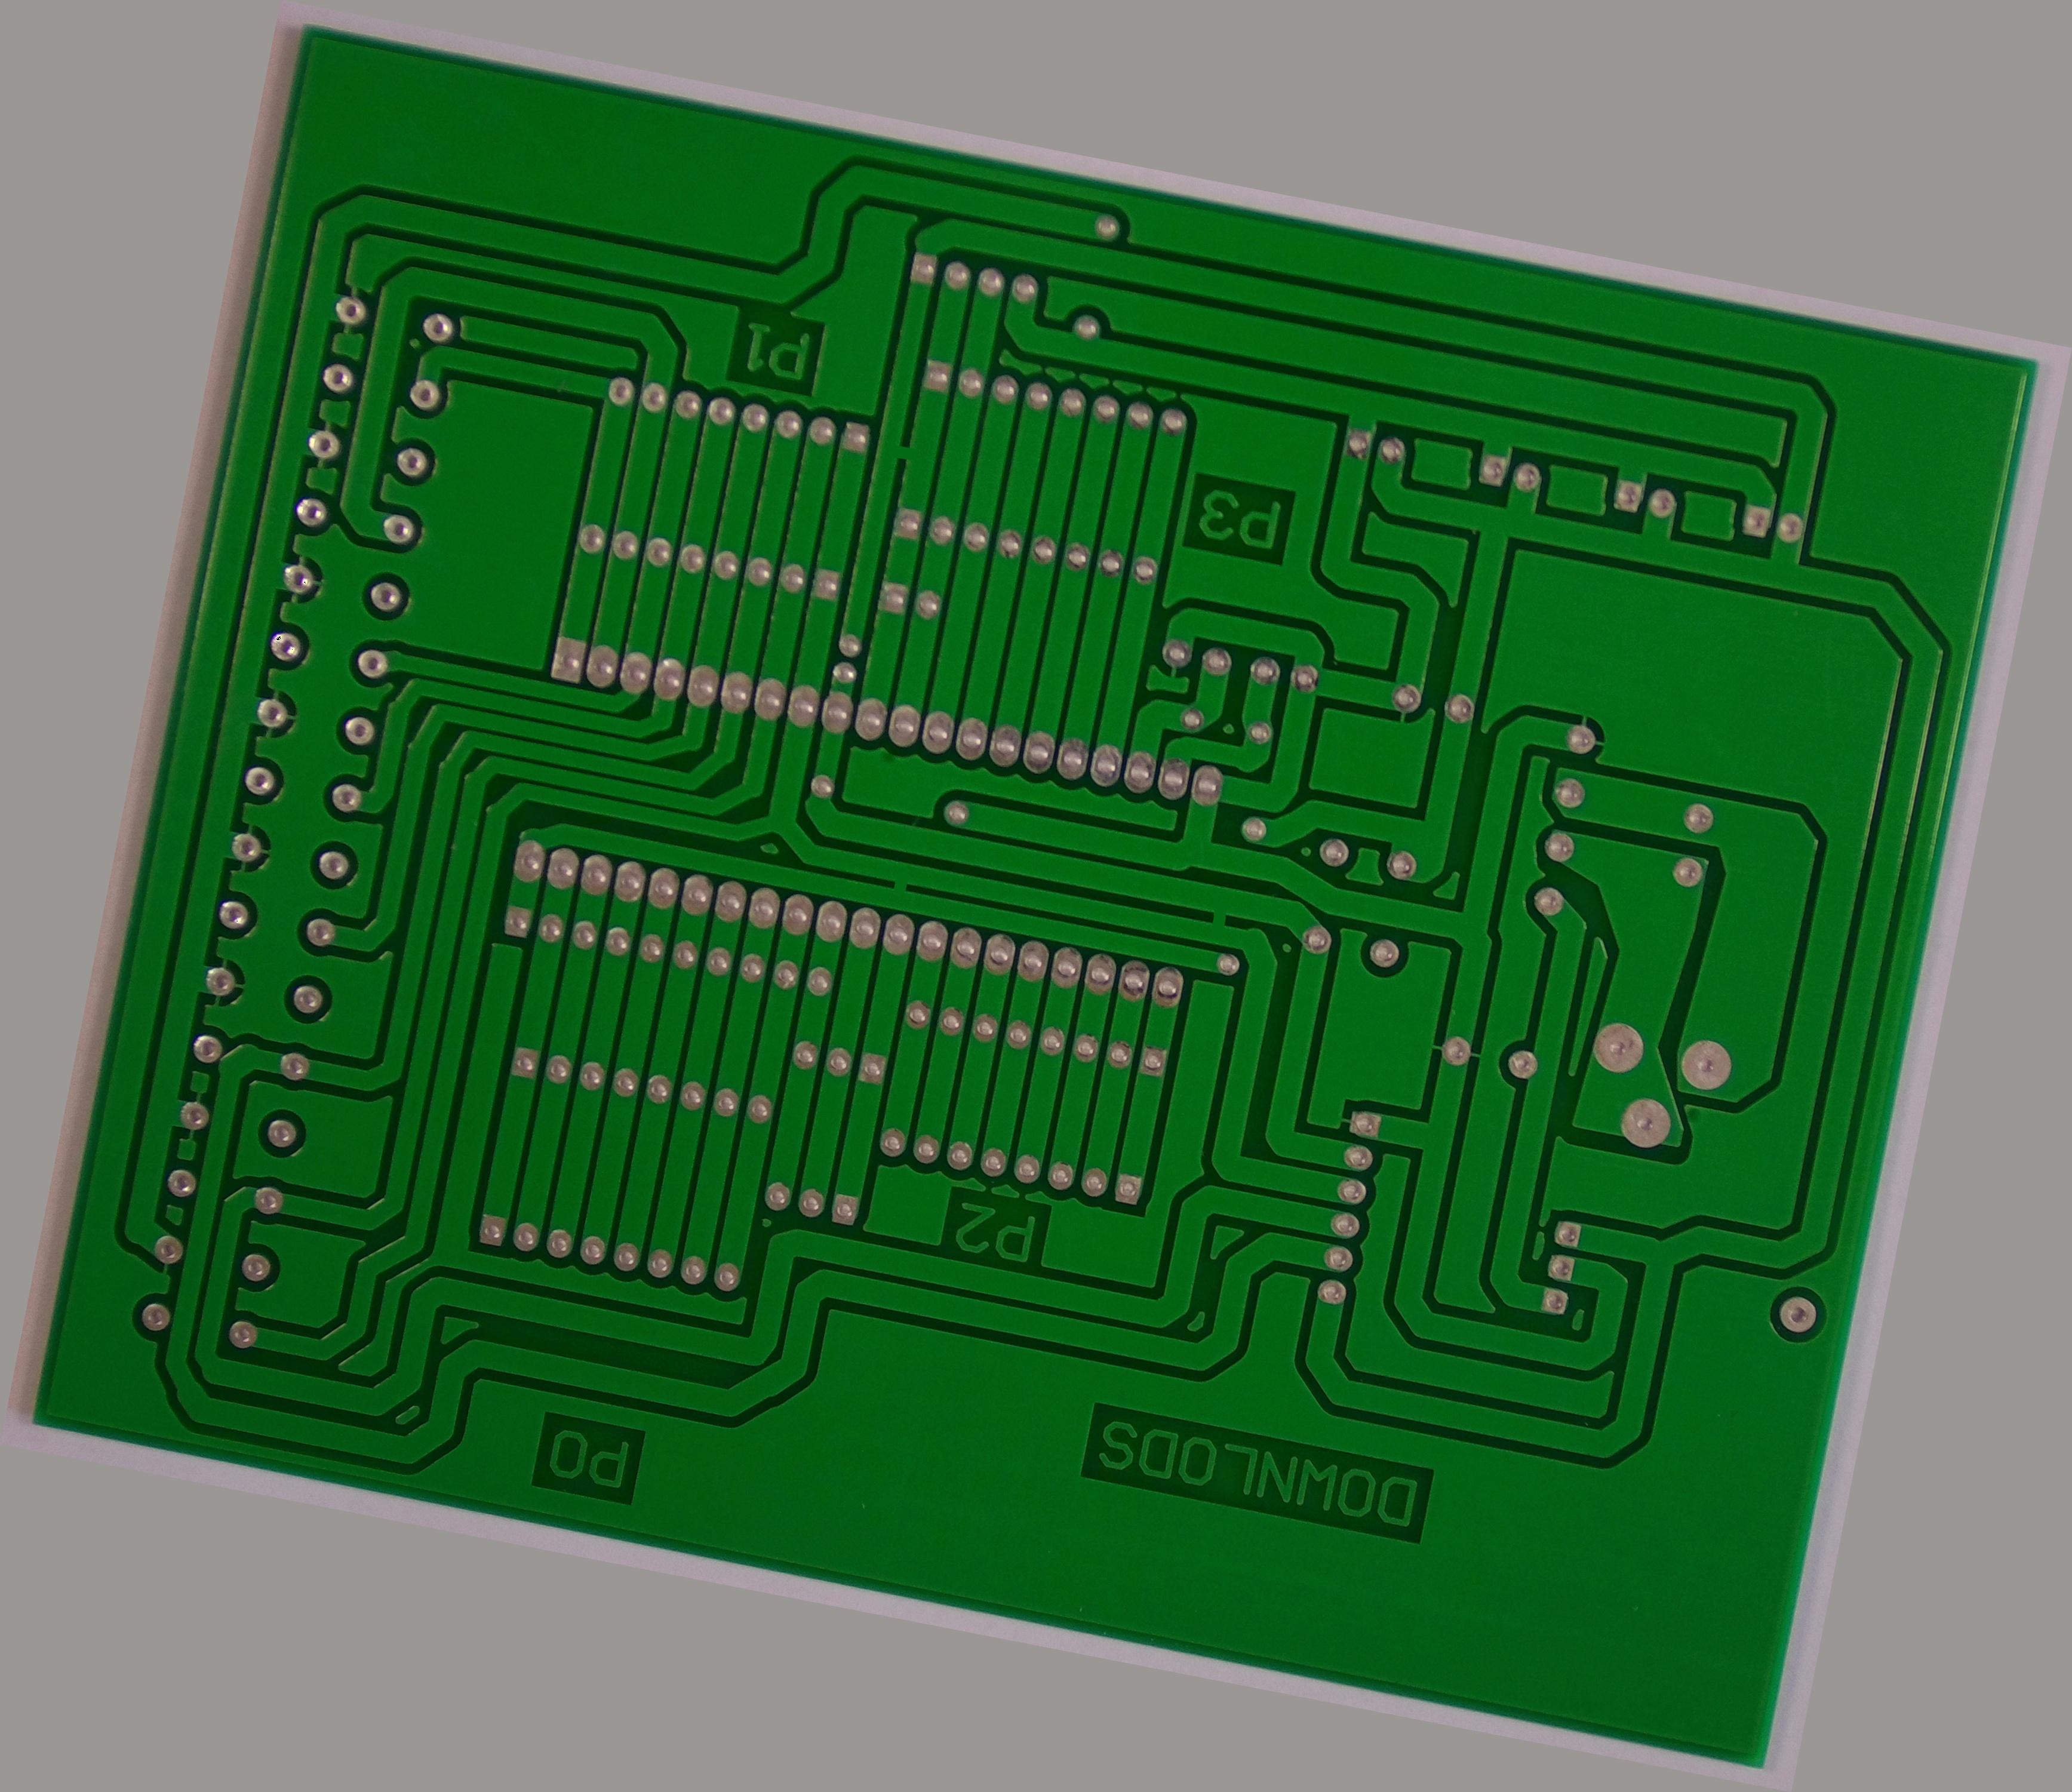short: (862, 414, 939, 495), (1193, 890, 1254, 953), (872, 853, 934, 913)
